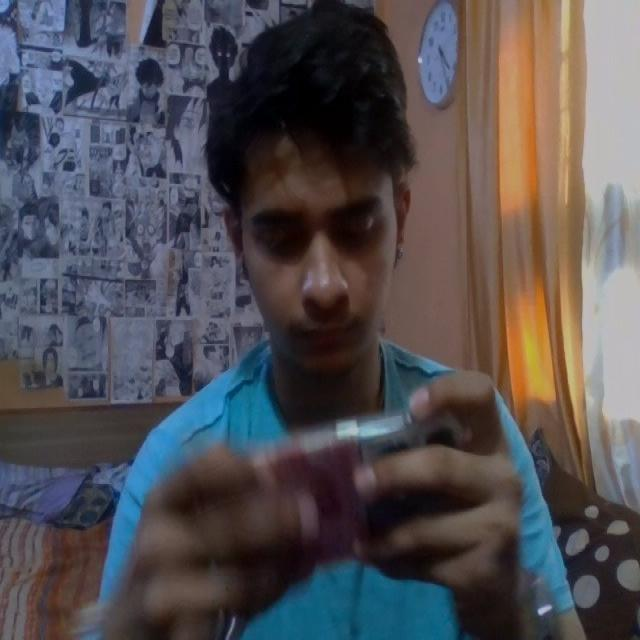phone: (200, 418, 475, 562)
using-phone: (88, 5, 587, 640)
